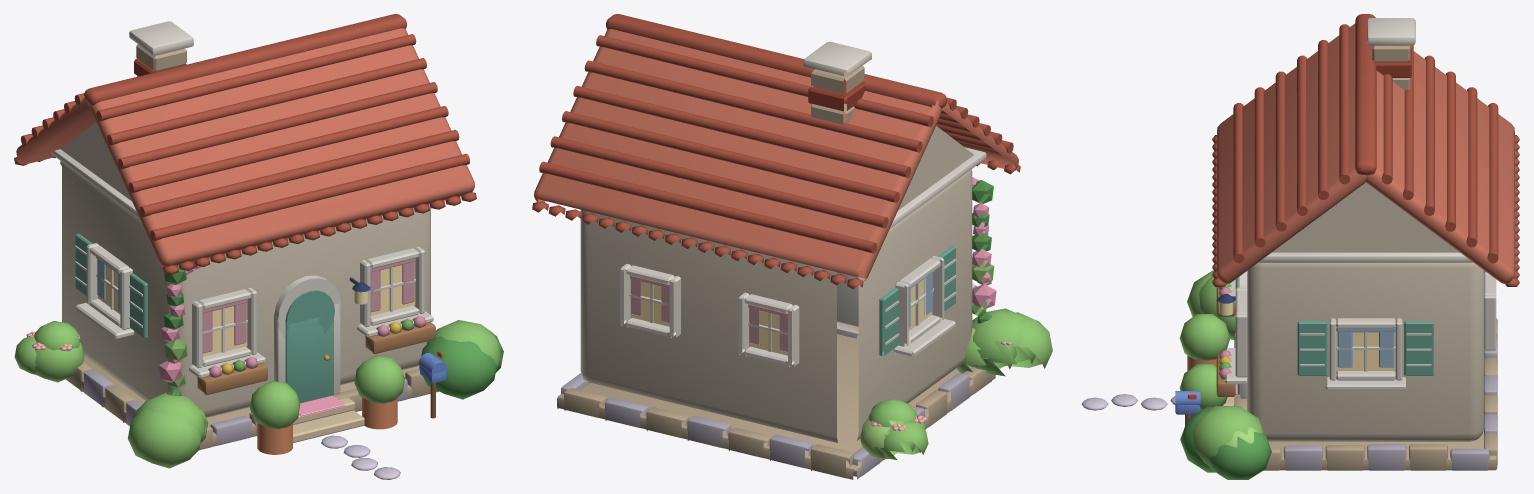
File: ac_cottage_r0.glb
The picture shows the model from 3 angles, left to right: view 1: azimuth 30°, elevation 25°; view 2: azimuth 150°, elevation 25°; view 3: azimuth 270°, elevation 25°; orthographic projection. The views are drawn at different scales.
Visible parts, largest first — view 1: body, nomask; view 2: body, nomask; view 3: body, nomask.
Boxes of the visible parts, x1,y1,x2,y2 form: body: (14,14,476,450); nomask: (14,320,503,479); body: (532,14,1020,479); nomask: (857,308,1052,459); body: (1212,14,1519,470); nomask: (1081,270,1271,479).
Bounding box in the file's own units: 9.96 × 8.94 × 10.35.
